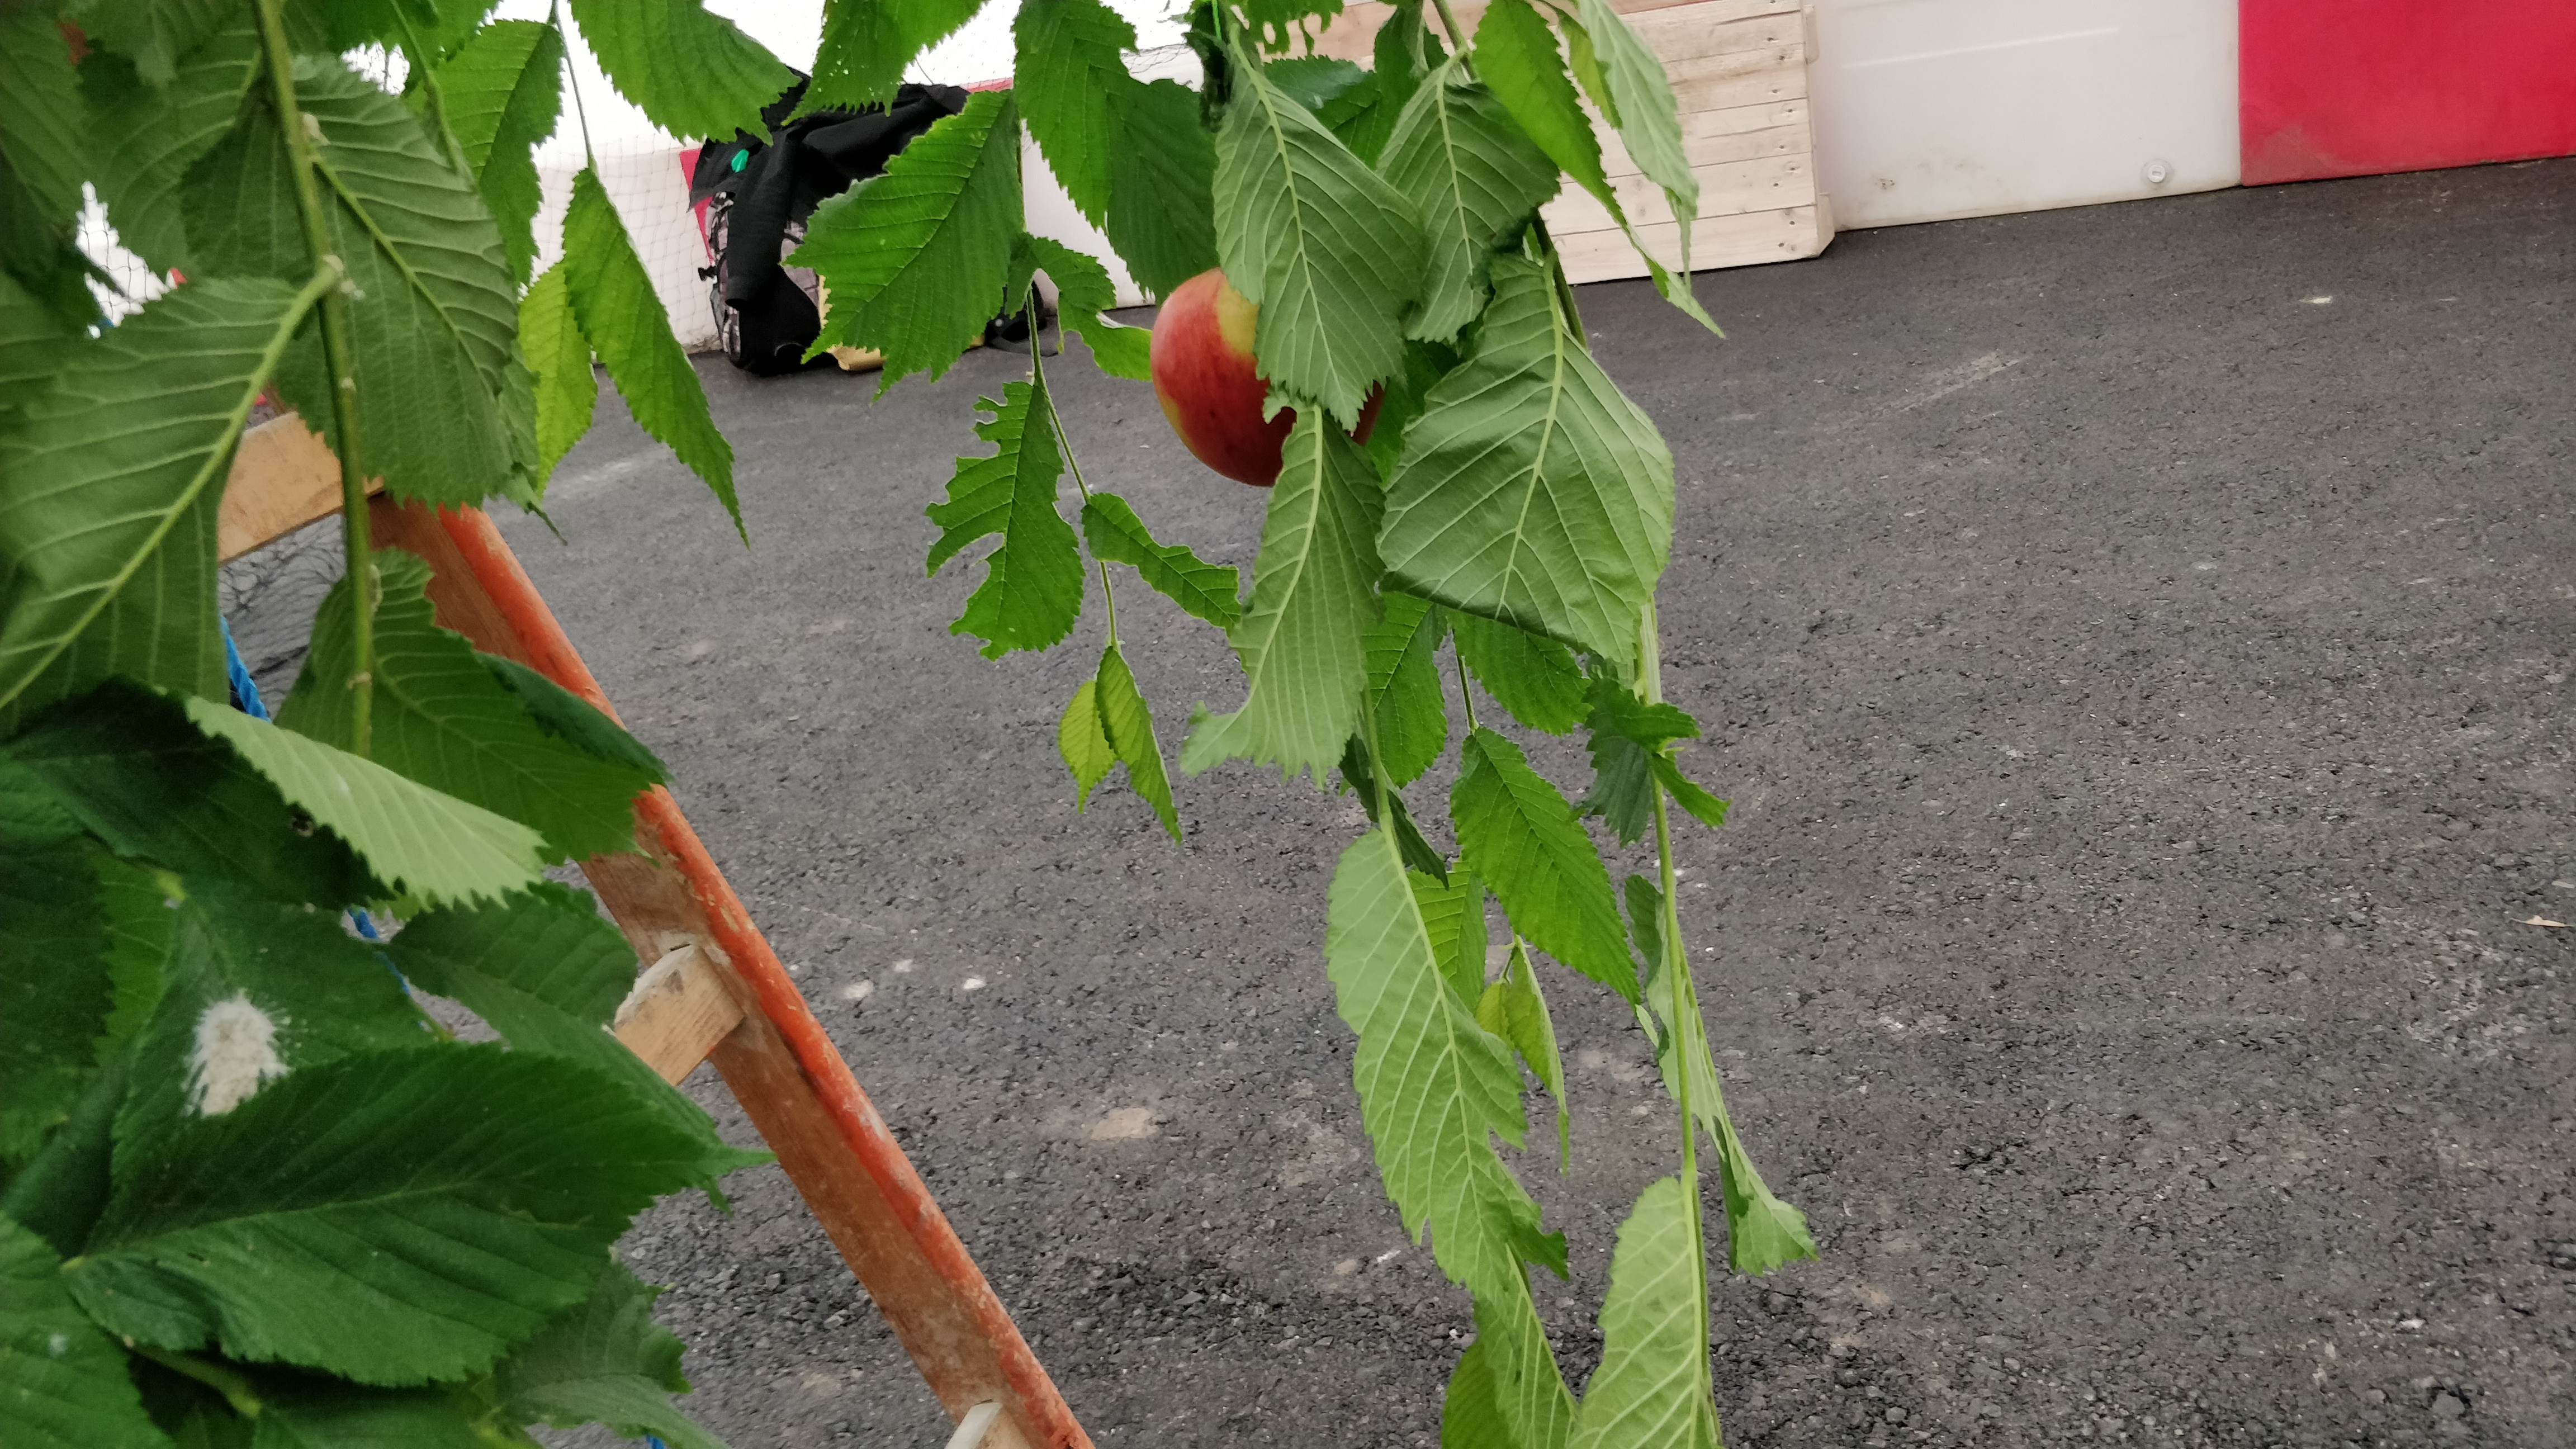apple: (1152, 269, 1297, 488)
